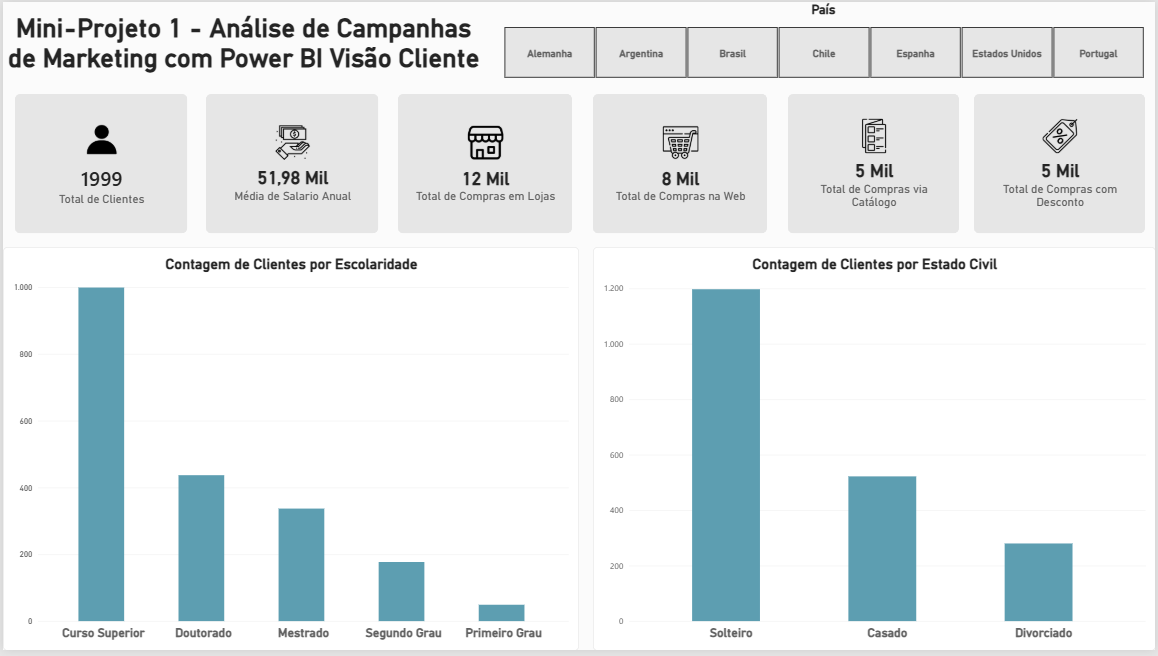

The dashboard page shown, as its layout file describes it:
{"tool":"powerbi","page":{"name":"Visão Cliente","canvas":[1920,1080],"ordinal":0},"visuals":[{"type":"cardVisual","fields":{"Data":["CountNonNull(dados_marketing.ID)"]},"box":[20,152.5,287.5,232.5],"z":0},{"type":"cardVisual","fields":{"Data":["Avg(dados_marketing.Salario Anual)"]},"box":[337.5,152.5,287.5,232.5],"z":1000},{"type":"cardVisual","fields":{"Data":["Sum(dados_marketing.Numero de Compras na Loja)"]},"box":[657.5,152.5,290,232.5],"z":2000},{"type":"cardVisual","fields":{"Data":["Sum(dados_marketing.Numero de Compras na Web)"]},"box":[982.5,152.5,290,232.5],"z":3000},{"type":"cardVisual","fields":{"Data":["Sum(dados_marketing.Numero de Compras via Catalogo)"]},"box":[1307.5,152.5,285,232.5],"z":4000},{"type":"cardVisual","fields":{"Data":["Sum(dados_marketing.Numero de Compras com Desconto)"]},"box":[1617.5,152.5,285,232.5],"z":5000},{"type":"columnChart","title":"Contagem de Clientes por Escolaridade","fields":{"Category":["dados_marketing.Escolaridade"],"Y":["CountNonNull(dados_marketing.ID)"]},"box":[0,407.5,960,672.5],"z":6000},{"type":"columnChart","title":"Contagem de Clientes por Estado Civil","fields":{"Category":["dados_marketing.Estado Civil"],"Y":["CountNonNull(dados_marketing.ID)"]},"box":[982.5,407.5,937.5,672.5],"z":7000},{"type":"slicer","title":"País","fields":{"Values":["dados_marketing.Pais"]},"box":[815,0,1105,128.3],"z":8000},{"type":"textbox","box":[0,0,802.5,127.5],"z":9000}]}

Visuals, with their boxes in screenshot pixels (x1, y1, x2, y2), scaled from the page's 1920x1080 canvas onto the 1158x656 screenshot:
cardVisual - CountNonNull(dados_marketing.ID): l=12, t=93, r=185, b=234
cardVisual - Avg(dados_marketing.Salario Anual): l=204, t=93, r=377, b=234
cardVisual - Sum(dados_marketing.Numero de Compras na Loja): l=397, t=93, r=571, b=234
cardVisual - Sum(dados_marketing.Numero de Compras na Web): l=593, t=93, r=767, b=234
cardVisual - Sum(dados_marketing.Numero de Compras via Catalogo): l=789, t=93, r=960, b=234
cardVisual - Sum(dados_marketing.Numero de Compras com Desconto): l=976, t=93, r=1147, b=234
"Contagem de Clientes por Escolaridade" columnChart: l=0, t=248, r=579, b=655
"Contagem de Clientes por Estado Civil" columnChart: l=593, t=248, r=1157, b=655
"País" slicer: l=492, t=0, r=1157, b=78
textbox: l=0, t=0, r=484, b=77
